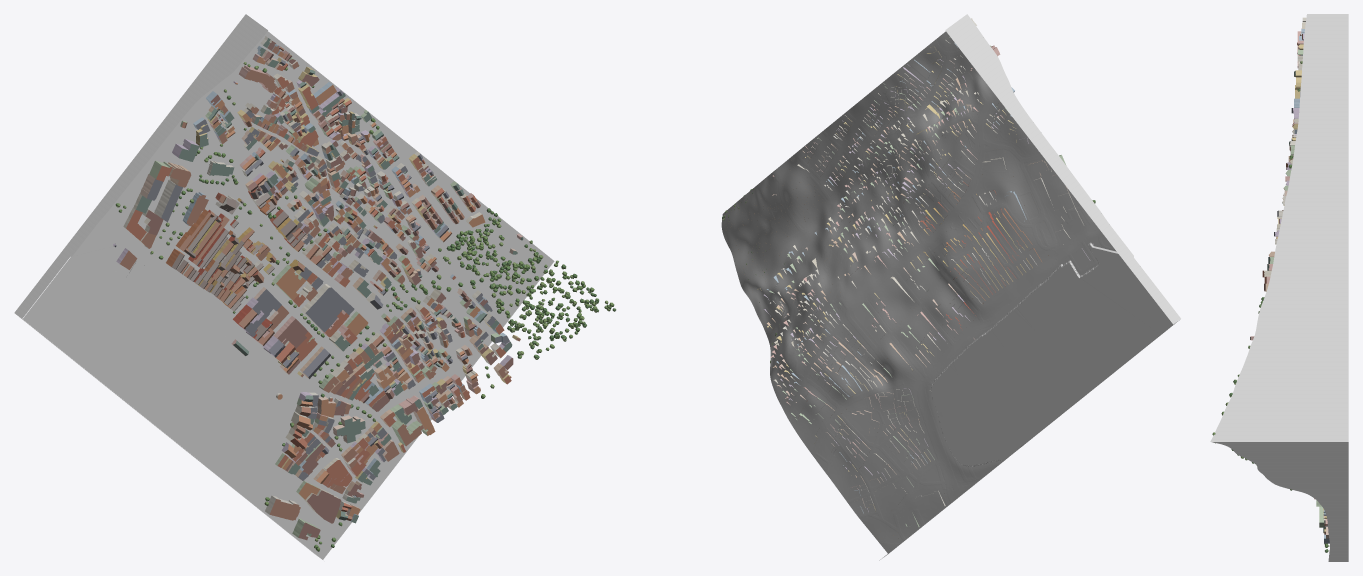
3 renders of one model, left to right at view 1: azimuth 30°, elevation 25°; view 2: azimuth 150°, elevation 25°; view 3: azimuth 270°, elevation 25°, orthographic. The views are drawn at different scales.
Visible parts, largest first — view 1: water, gebouwen, bomen, sokkel; view 2: terrein, gebouwen, sokkel; view 3: sokkel, gebouwen, bomen.
Boxes of the visible parts, x1,y1,x2,y2 form: water: (23,31,554,559); gebouwen: (113,36,523,540); bomen: (115,62,616,551); sokkel: (14,14,322,559); terrein: (721,31,1172,553); gebouwen: (757,18,1093,526); sokkel: (879,14,1180,560); sokkel: (1210,14,1348,561); gebouwen: (1250,17,1329,543); bomen: (1212,61,1329,552).
Size of the model in its own units: 877 by 877 by 213.
